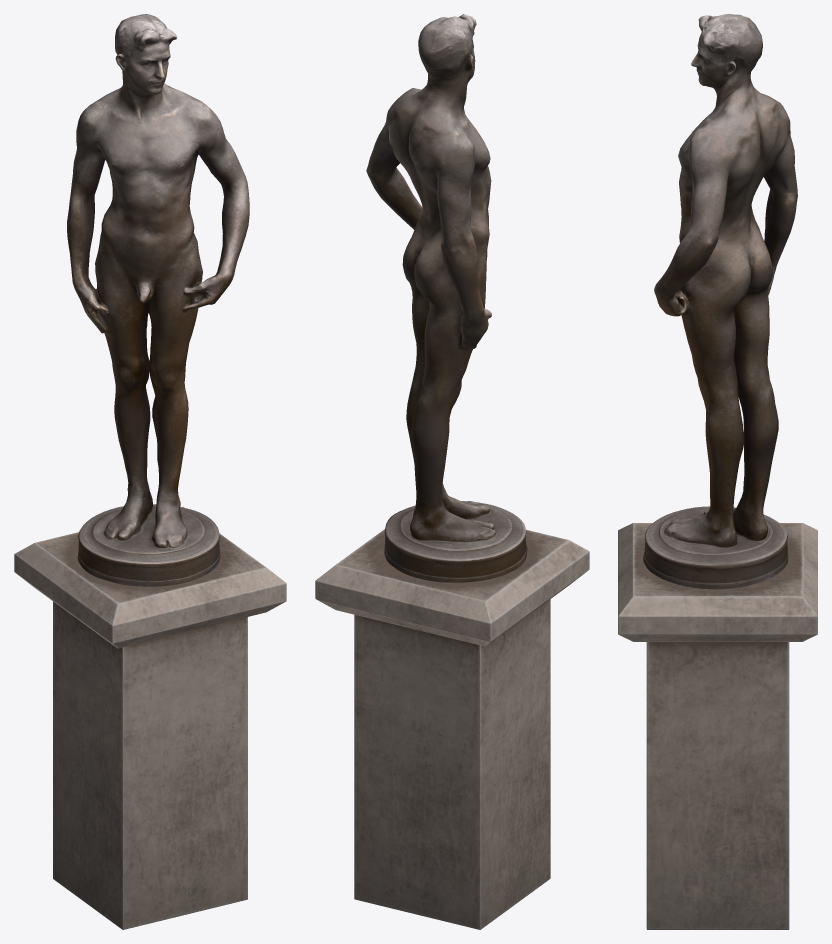
Rendered from Oarsman.glb.
3 renders of one model, left to right at view 1: azimuth 30°, elevation 25°; view 2: azimuth 150°, elevation 25°; view 3: azimuth 270°, elevation 25°, orthographic.
Parts seen in each view (by area): view 1: pCube3, Oarsman_low; view 2: pCube3, Oarsman_low; view 3: pCube3, Oarsman_low.
Part boxes in pixels (<box>): pCube3: <box>14,507,286,929</box>; Oarsman_low: <box>67,14,249,586</box>; pCube3: <box>315,529,589,929</box>; Oarsman_low: <box>366,14,527,582</box>; pCube3: <box>618,523,817,929</box>; Oarsman_low: <box>643,14,797,589</box>.
Bounding box in the file's own units: 0.3591 × 1.68 × 0.3455.
Materials: 1 (1 with a texture image).
